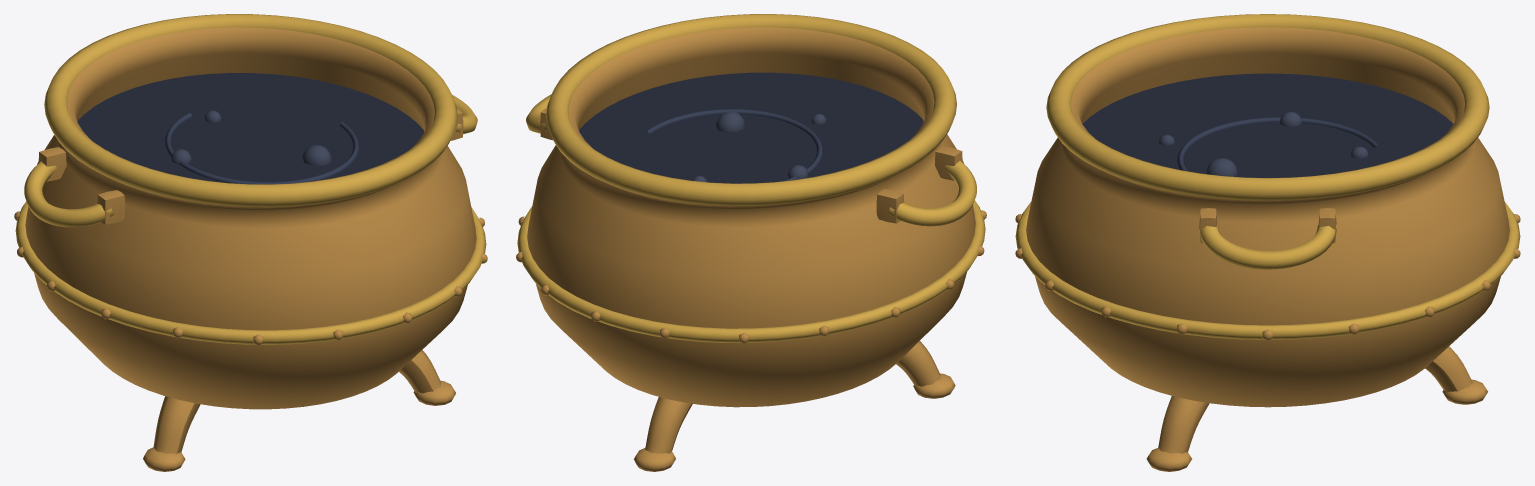
The model's file is detail_alchemy_cauldron.glb.
3 renders of one model, left to right at view 1: azimuth 30°, elevation 25°; view 2: azimuth 150°, elevation 25°; view 3: azimuth 270°, elevation 25°, orthographic. The views are drawn at different scales.
Visible parts, largest first — view 1: metal, object 2, object 3, object 4; view 2: metal, object 2, object 3, object 4; view 3: metal, object 2, object 3.
Boxes of the visible parts, bbox=[...] form: metal: bbox=[14, 14, 487, 471]; object 2: bbox=[78, 73, 423, 182]; object 3: bbox=[165, 112, 359, 184]; object 4: bbox=[302, 145, 331, 166]; metal: bbox=[516, 14, 986, 471]; object 2: bbox=[579, 72, 923, 183]; object 3: bbox=[647, 109, 823, 180]; object 4: bbox=[715, 111, 745, 132]; metal: bbox=[1015, 14, 1520, 471]; object 2: bbox=[1082, 73, 1453, 177]; object 3: bbox=[1177, 117, 1379, 171].
Bounding box in the file's own units: 1.2 × 0.8 × 1.2.
